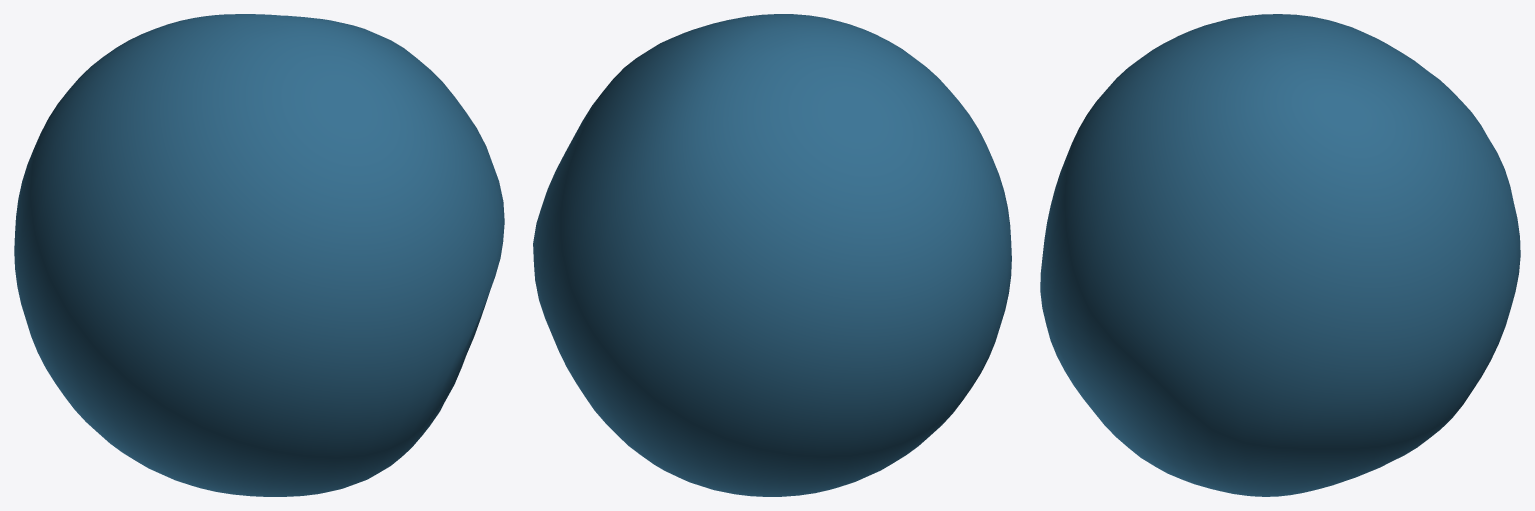
File: sphere main (anim group transit).gltf
3 renders of one model, left to right at view 1: azimuth 30°, elevation 25°; view 2: azimuth 150°, elevation 25°; view 3: azimuth 270°, elevation 25°, orthographic. The views are drawn at different scales.
Parts seen in each view (by area): view 1: gold2; view 2: gold2; view 3: gold2.
Part boxes in pixels (left/top/right/bottom): gold2: left=14, top=14, right=504, bottom=496; gold2: left=533, top=14, right=1011, bottom=496; gold2: left=1040, top=14, right=1520, bottom=496.
Size of the model in its own units: 0.1372 by 0.1387 by 0.1384.
1 material, 1 textured.
